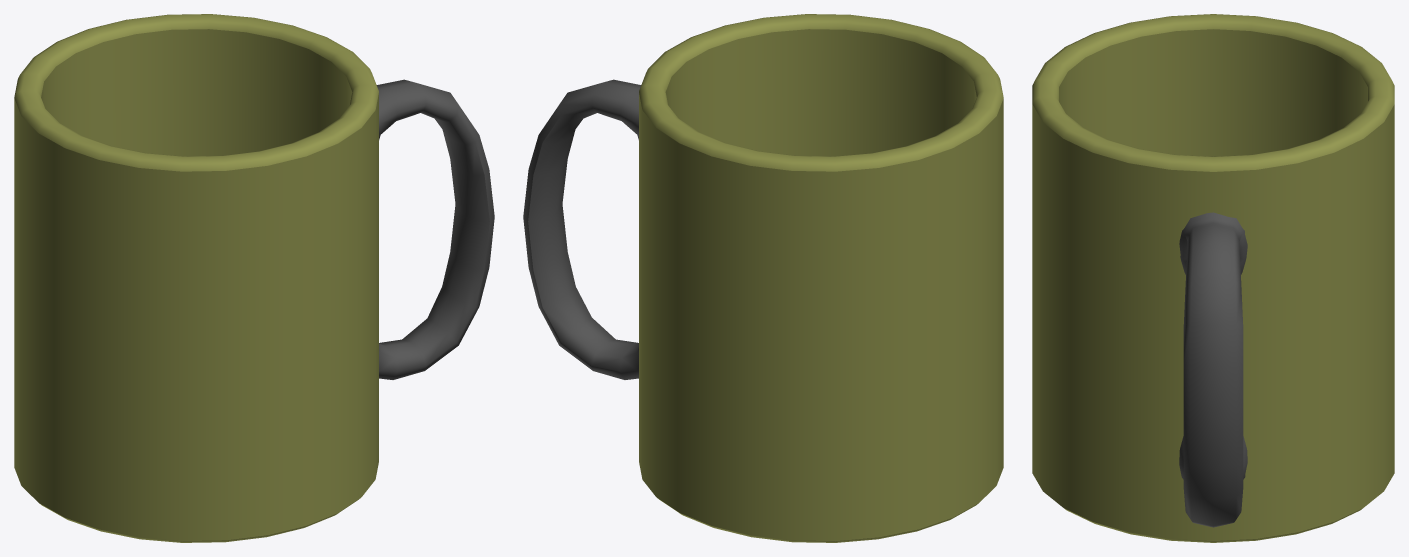
File: kupa.fbx
3 renders of one model, left to right at view 1: azimuth 30°, elevation 25°; view 2: azimuth 150°, elevation 25°; view 3: azimuth 270°, elevation 25°, orthographic.
Parts seen in each view (by area): view 1: mug; view 2: mug; view 3: mug.
Boxes of the visible parts, x1,y1,x2,y2 form: mug: (14, 14, 494, 542); mug: (523, 14, 1003, 542); mug: (1032, 14, 1394, 542).
Size of the model in its own units: 12.95 by 10.47 by 9.06.
